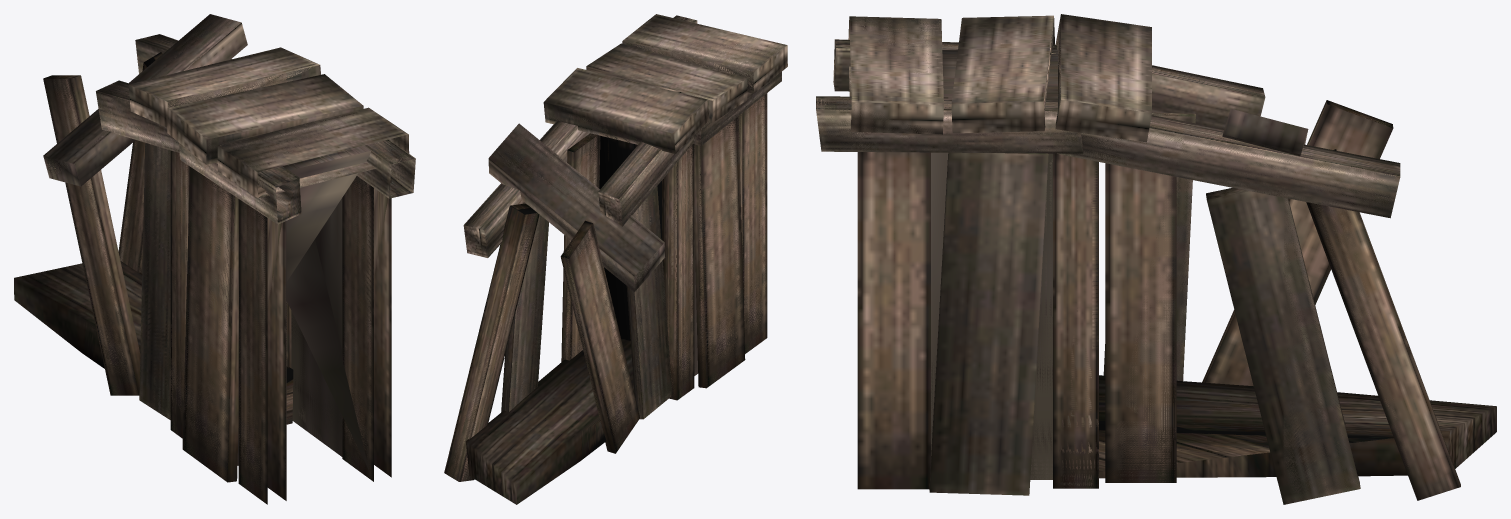
The model's file is stst40.dae.
3 views of the same model, side by side, from view 1: azimuth 30°, elevation 25°; view 2: azimuth 150°, elevation 25°; view 3: azimuth 270°, elevation 25° (orthographic). The views are drawn at different scales.
Parts seen in each view (by area): view 1: mine1, mine2; view 2: mine1, mine2; view 3: mine1, mine2.
Part boxes in pixels (bbox=[...]): mine1: bbox=[14, 14, 415, 504]; mine2: bbox=[14, 15, 415, 503]; mine1: bbox=[444, 14, 787, 504]; mine2: bbox=[444, 16, 786, 503]; mine1: bbox=[816, 14, 1496, 504]; mine2: bbox=[817, 16, 1454, 501].
Size of the model in its own units: 0.4797 by 1.41 by 0.9701.
Materials: 1 (1 with a texture image).
